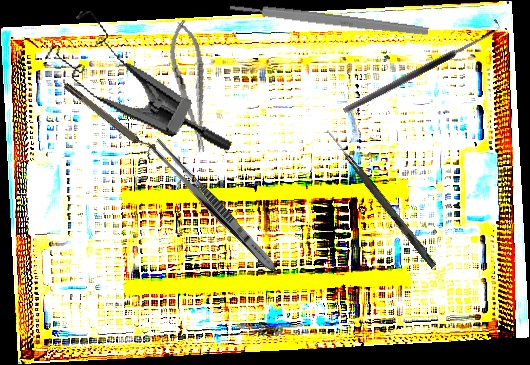Dressing Forceps: (144, 135, 283, 277)
Fixation Ring: (61, 77, 160, 160)
Hook Surgical: (322, 128, 439, 269), (338, 17, 503, 115)
Needle Holder: (163, 18, 218, 155)
Scalpel Handle: (229, 0, 429, 38)
Speculum: (34, 3, 256, 153)
